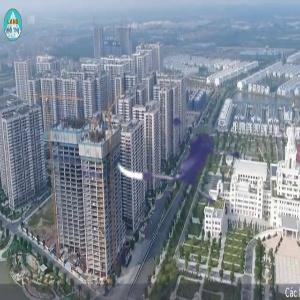drone: (114, 79, 259, 224)
